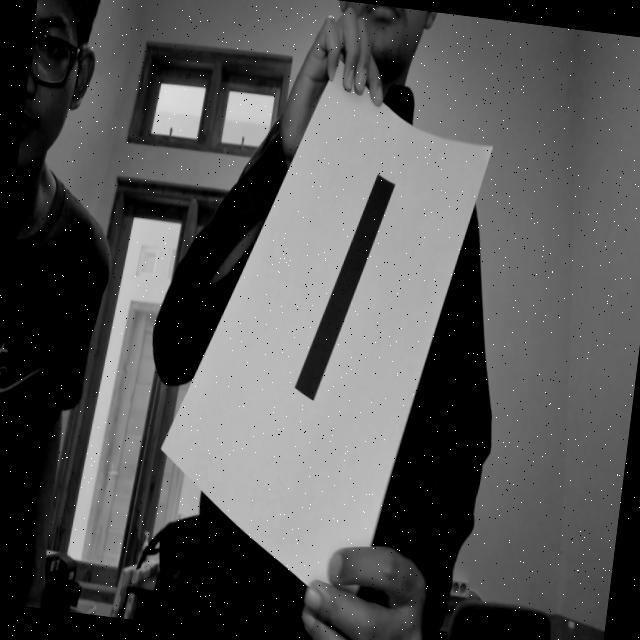i: (280, 146, 411, 445)
